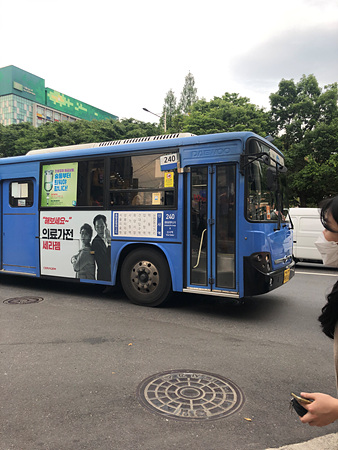entrance: (185, 160, 238, 294)
